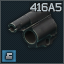HK 416A5 low profile gas block: (0, 0, 64, 64)
